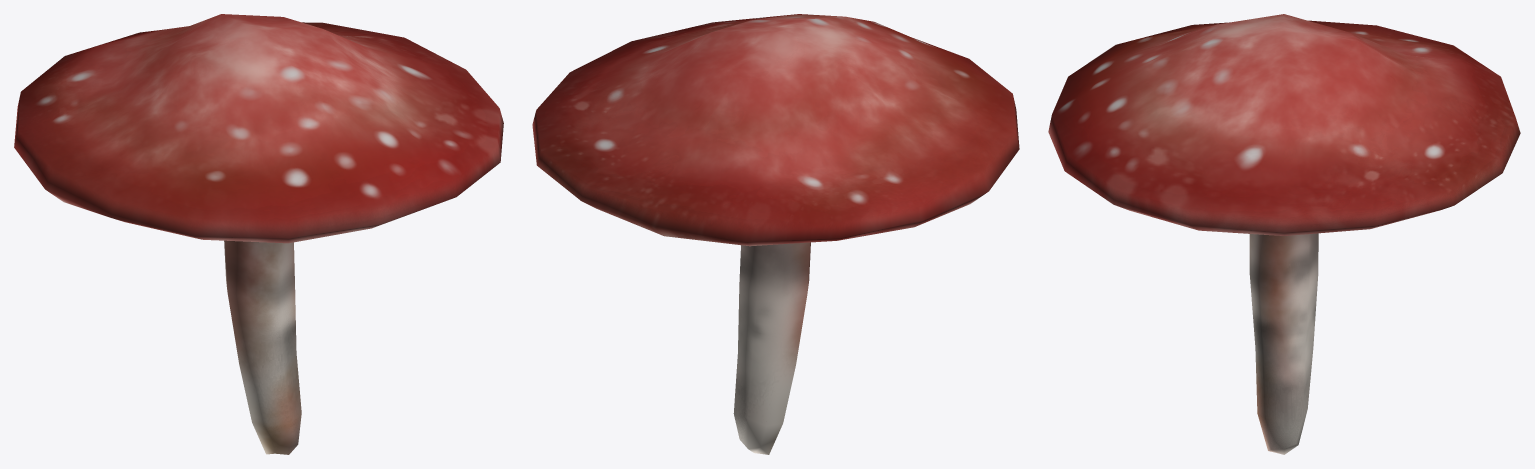
Rendered from md_mushroom_02_v4.fbx.
3 renders of one model, left to right at view 1: azimuth 30°, elevation 25°; view 2: azimuth 150°, elevation 25°; view 3: azimuth 270°, elevation 25°, orthographic. The views are drawn at different scales.
Parts seen in each view (by area): view 1: Mushroom02; view 2: Mushroom02; view 3: Mushroom02.
Boxes of the visible parts, <box> form: Mushroom02: <box>14,14,503,454</box>; Mushroom02: <box>532,14,1019,454</box>; Mushroom02: <box>1048,14,1520,454</box>.
Size of the model in its own units: 20.92 by 20.09 by 20.8.
